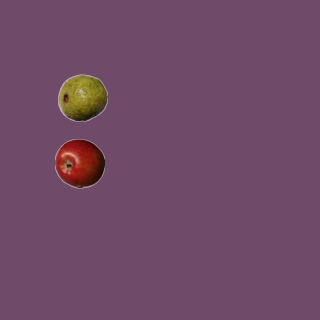Apple Braeburn: (54, 138, 104, 188)
Guava: (57, 72, 107, 122)
